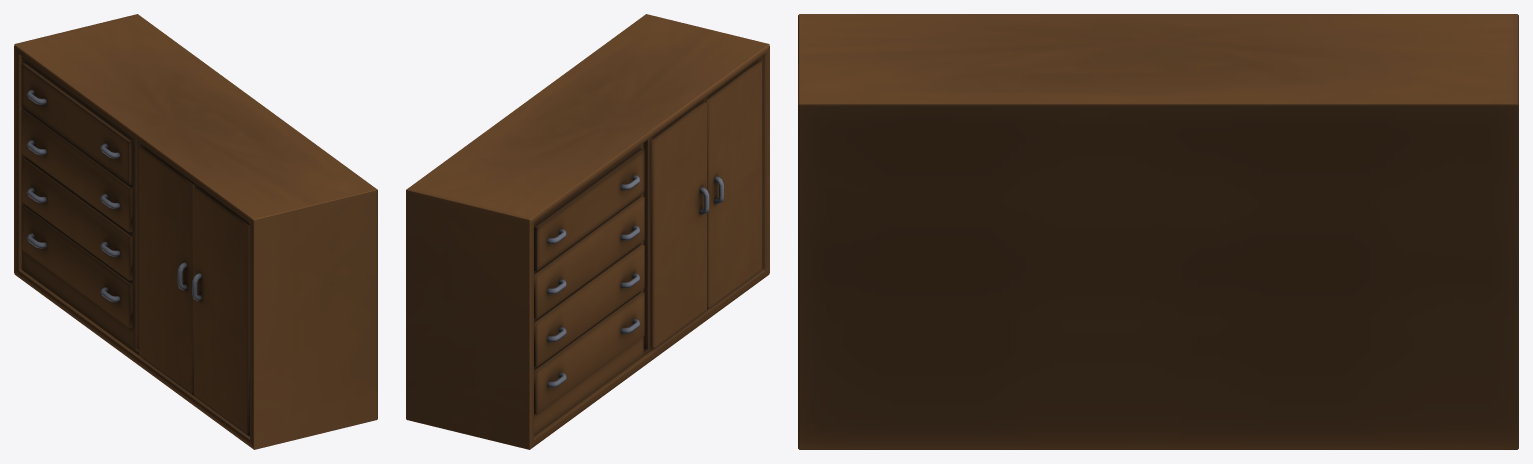
Rendered from drasser.fbx.
The picture shows the model from 3 angles, left to right: view 1: azimuth 30°, elevation 25°; view 2: azimuth 150°, elevation 25°; view 3: azimuth 270°, elevation 25°; orthographic projection. The views are drawn at different scales.
Parts seen in each view (by area): view 1: unwrapped:unwrapped:pCube44; view 2: unwrapped:unwrapped:pCube44; view 3: unwrapped:unwrapped:pCube44.
Part boxes in pixels (left/top/right/bottom): unwrapped:unwrapped:pCube44: left=14, top=14, right=377, bottom=449; unwrapped:unwrapped:pCube44: left=406, top=14, right=769, bottom=449; unwrapped:unwrapped:pCube44: left=798, top=14, right=1518, bottom=449.
Size of the model in its own units: 79.75 by 133 by 252.
